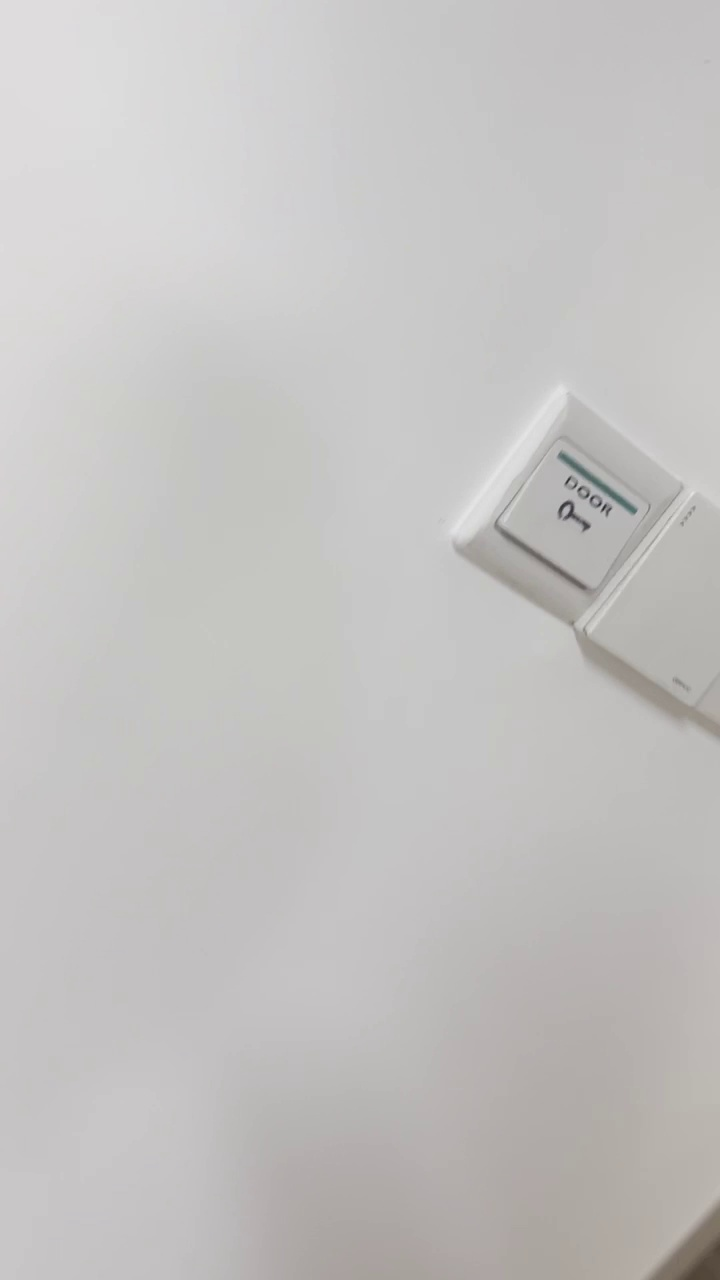button: (560, 490, 720, 725)
